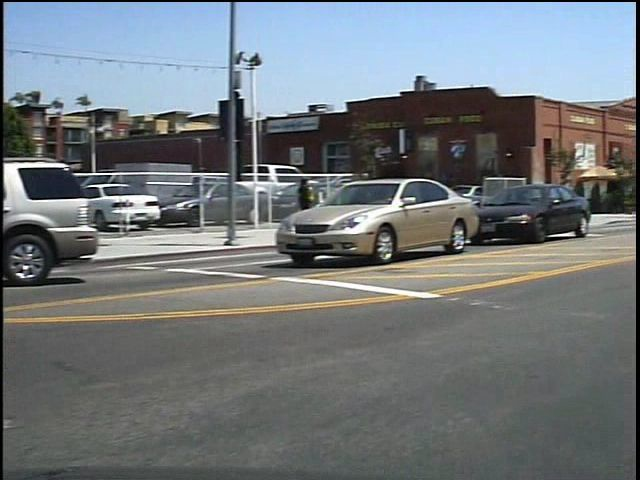person: (302, 172, 327, 233)
